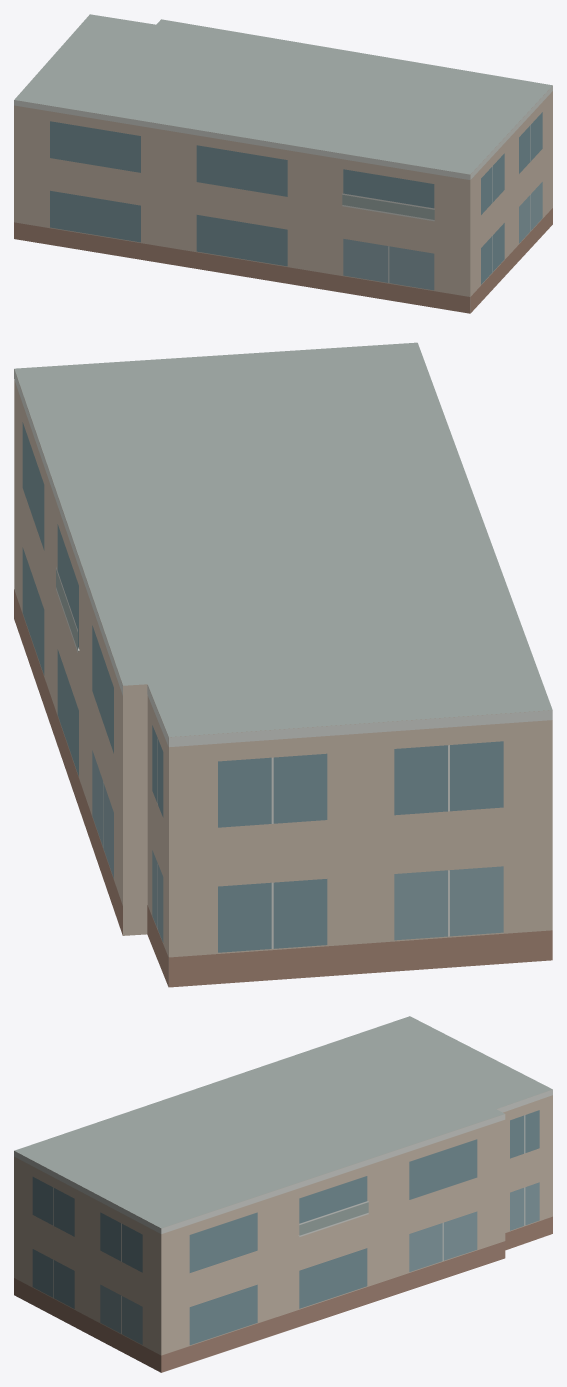
File: survey-upis-32749261.glb
3 views of the same model, one above another, from view 1: azimuth 30°, elevation 25°; view 2: azimuth 150°, elevation 25°; view 3: azimuth 270°, elevation 25° (orthographic). The views are drawn at different scales.
Parts seen in each view (by area): view 1: survey-upis-32749261.tmp; view 2: survey-upis-32749261.tmp; view 3: survey-upis-32749261.tmp.
Boxes of the visible parts, x1,y1,x2,y2 form: survey-upis-32749261.tmp: (14, 14, 552, 313); survey-upis-32749261.tmp: (14, 342, 552, 987); survey-upis-32749261.tmp: (14, 1016, 552, 1372).
Bounding box in the file's own units: 19.25 × 6.1 × 20.64.
